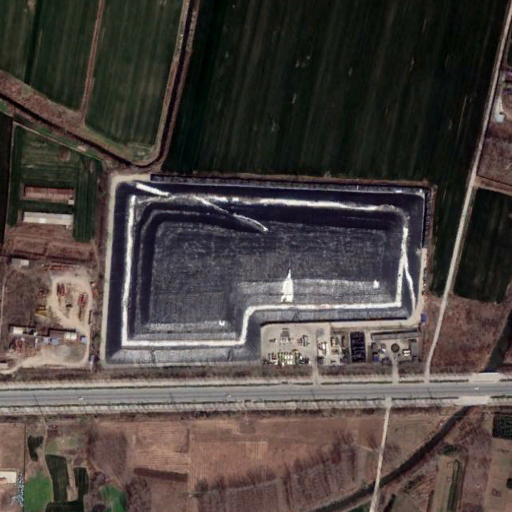lf: (95, 172, 435, 367)
